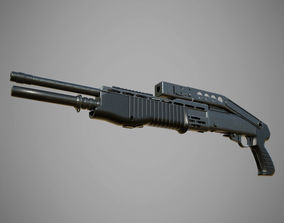weapon: (9, 70, 277, 177)
